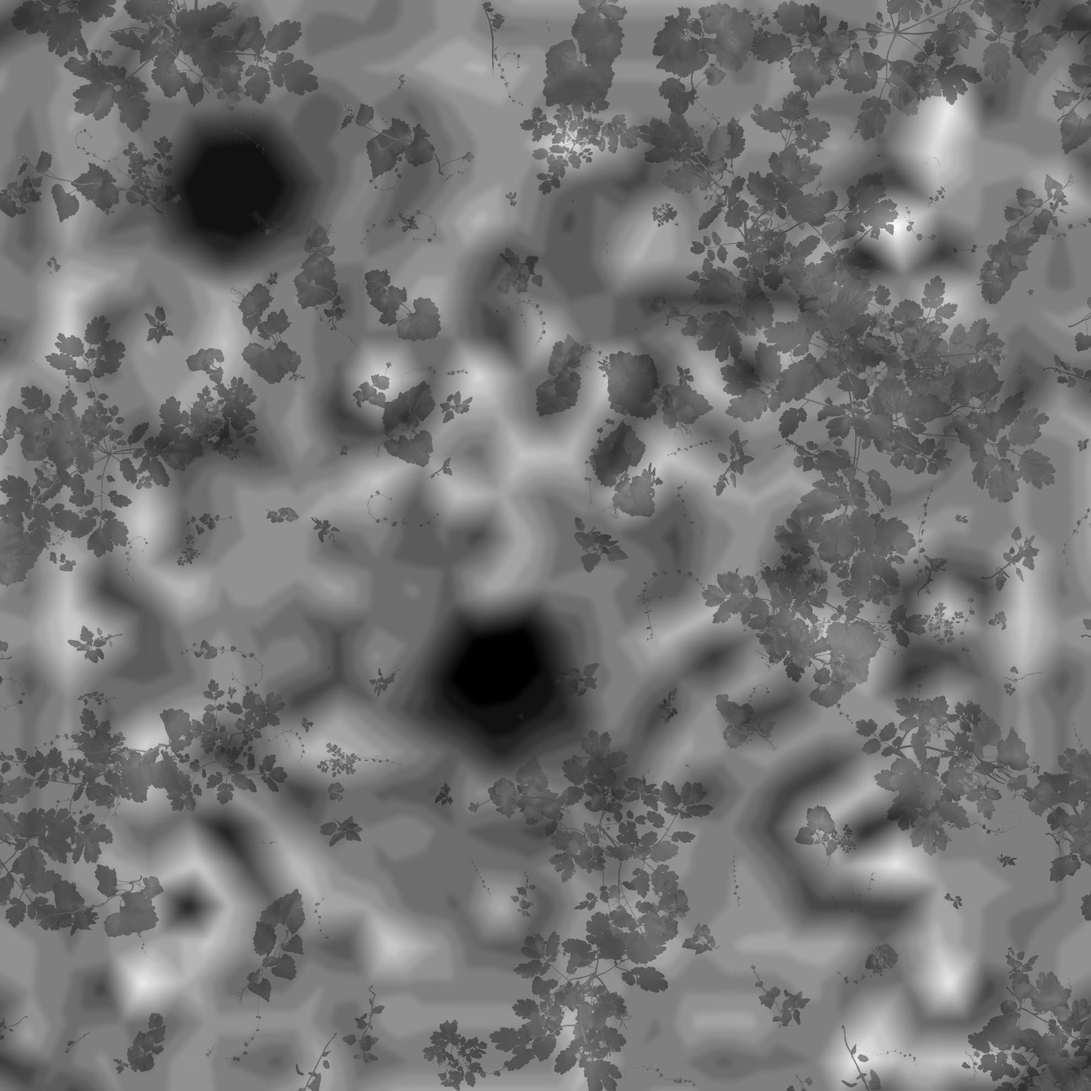landmine: (433, 600, 580, 758), (164, 117, 317, 268)
